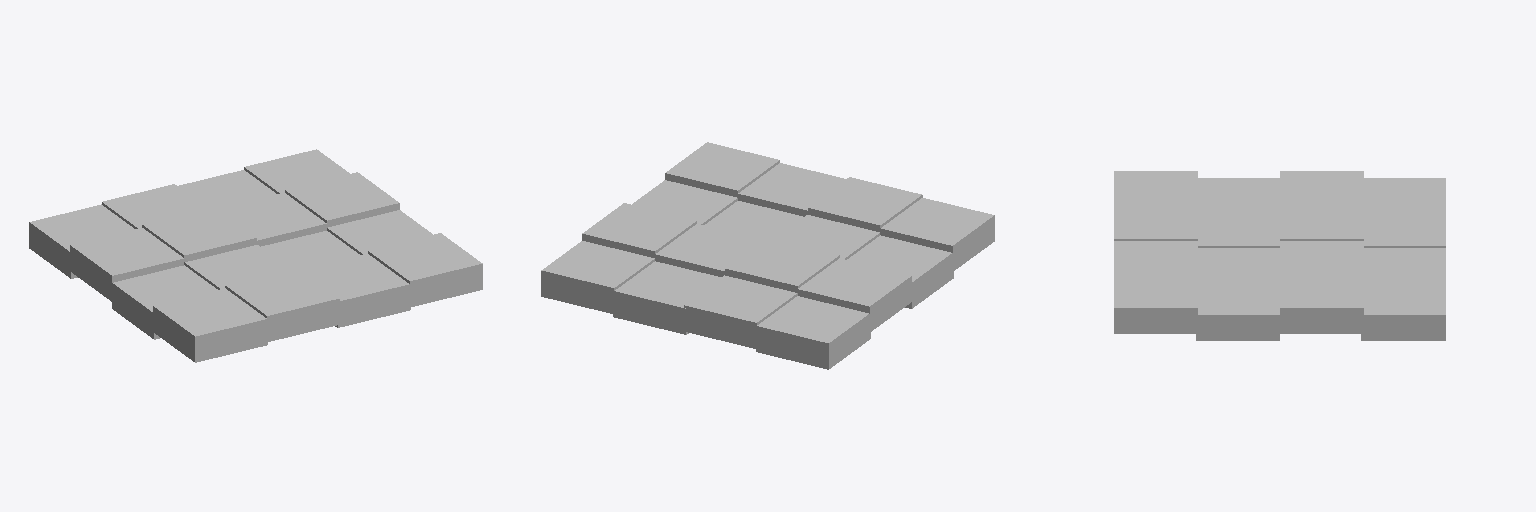
Rendered from varyingPlane.obj.
3 renders of one model, left to right at view 1: azimuth 30°, elevation 25°; view 2: azimuth 150°, elevation 25°; view 3: azimuth 270°, elevation 25°, orthographic.
Parts seen in each view (by area): view 1: Cube.001_Cube.002; view 2: Cube.001_Cube.002; view 3: Cube.001_Cube.002.
Part boxes in pixels (bbox=[...]): Cube.001_Cube.002: bbox=[29, 149, 482, 362]; Cube.001_Cube.002: bbox=[541, 142, 994, 369]; Cube.001_Cube.002: bbox=[1114, 171, 1445, 340].
Size of the model in its own units: 7.89 by 0.9456 by 7.88.